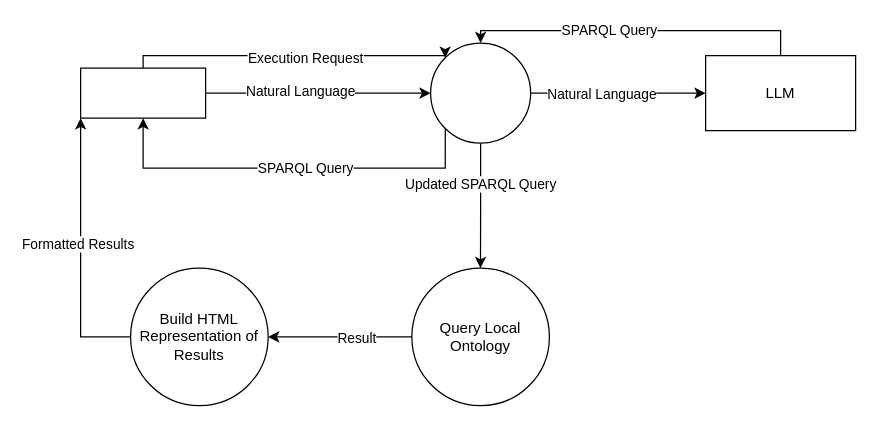
Some shapes in this 878 by 428 pixel diagram are drawn without their labels. Here are the shapes that lost their labels. From the top down, the centre of each, then its label:
At point 142,92: "User".
At point 480,92: "Forward Data".
